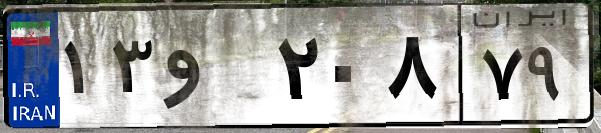0: (330, 28, 385, 110)
1: (57, 26, 110, 100)
2: (270, 28, 330, 110)
3: (110, 28, 158, 98)
7: (475, 38, 525, 113)
8: (385, 28, 445, 110)
9: (525, 38, 570, 115)
و: (158, 20, 270, 120)
